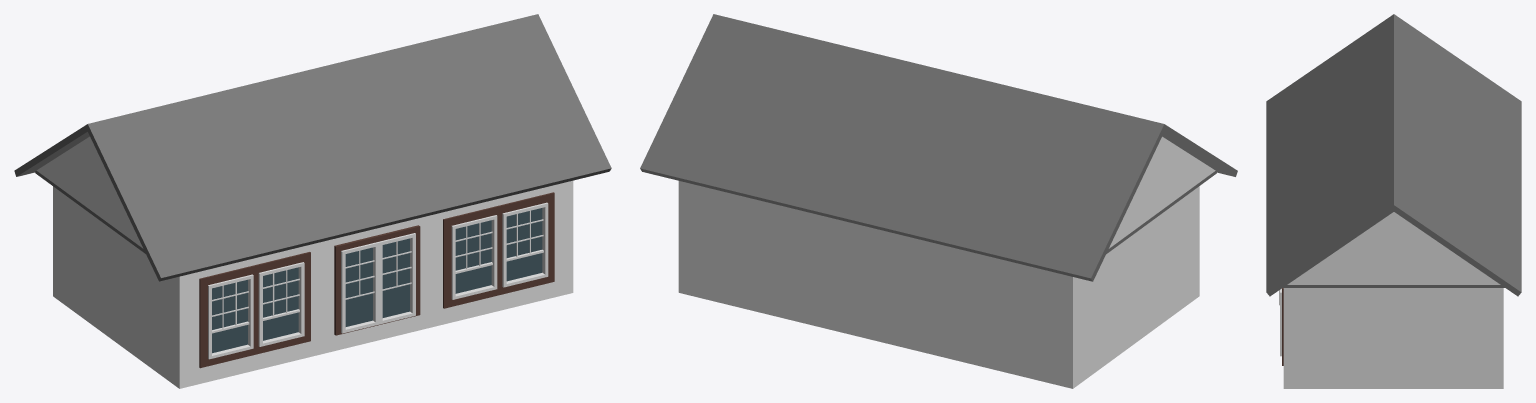
Rendered from house_027.glb.
The picture shows the model from 3 angles, left to right: view 1: azimuth 30°, elevation 25°; view 2: azimuth 150°, elevation 25°; view 3: azimuth 270°, elevation 25°; orthographic projection. The views are drawn at different scales.
Parts seen in each view (by area): view 1: house_027; view 2: house_027; view 3: house_027.
Boxes of the visible parts, box(x1,y1,x2,y2) form: house_027: box(14, 14, 611, 388); house_027: box(640, 14, 1237, 388); house_027: box(1266, 14, 1521, 388).
Size of the model in its own units: 8.01 by 3.83 by 4.52.
1 material, 1 textured.
